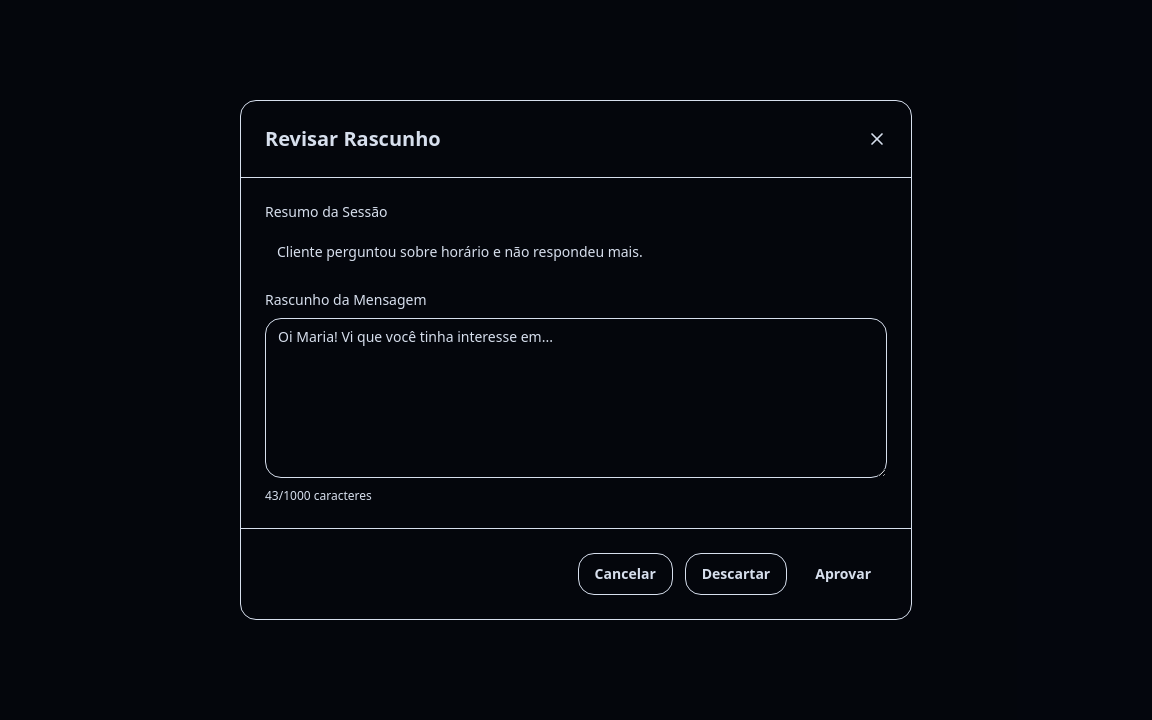
Test: FollowUpEditModal › blocks approval and shows an error for an empty draft
Step 1. Clear the text box labelled "Rascunho da Mensagem" → {"x": 576, "y": 398}, box [265,318,887,478]
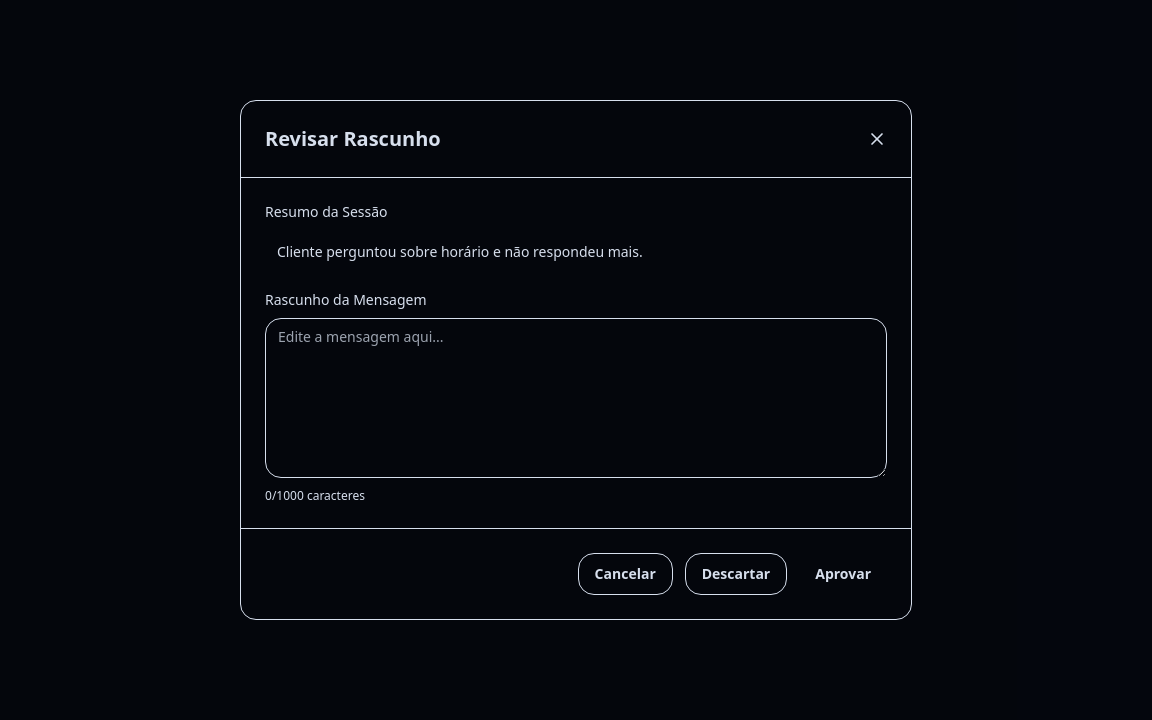
Step 2. Click the button "Aprovar" → {"x": 843, "y": 574}, box [799,553,887,595]
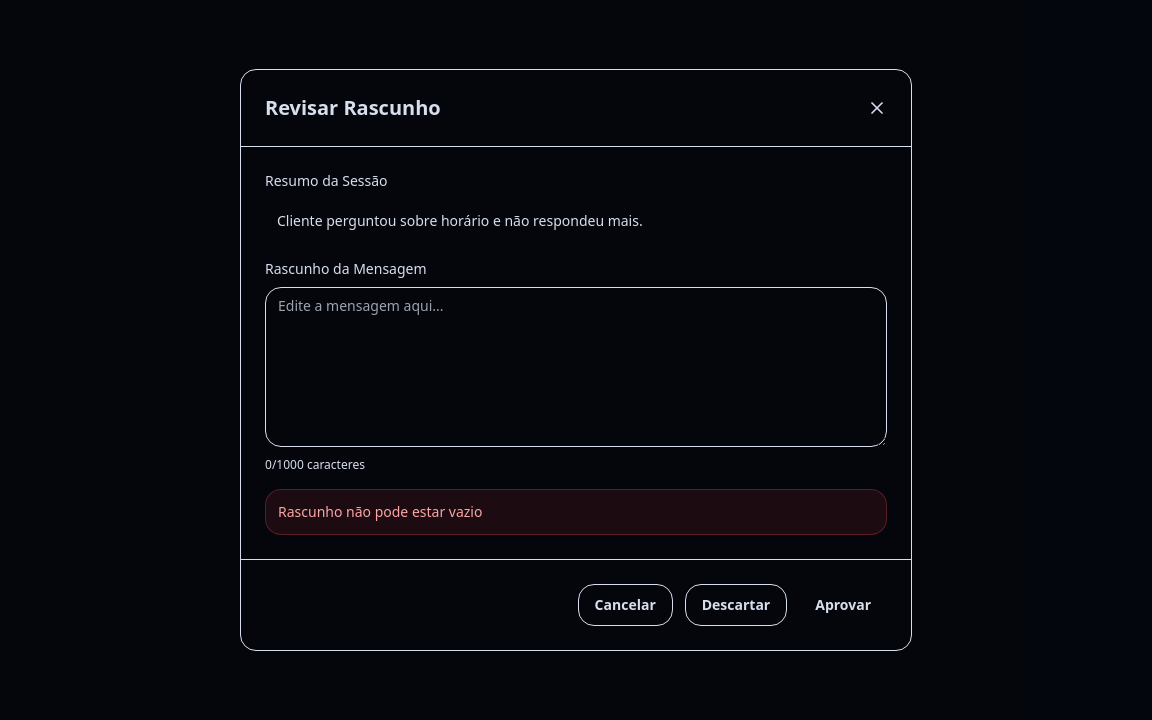
expect the text "Rascunho não pode estar vazio" is shown: met, box [278,502,482,521]
